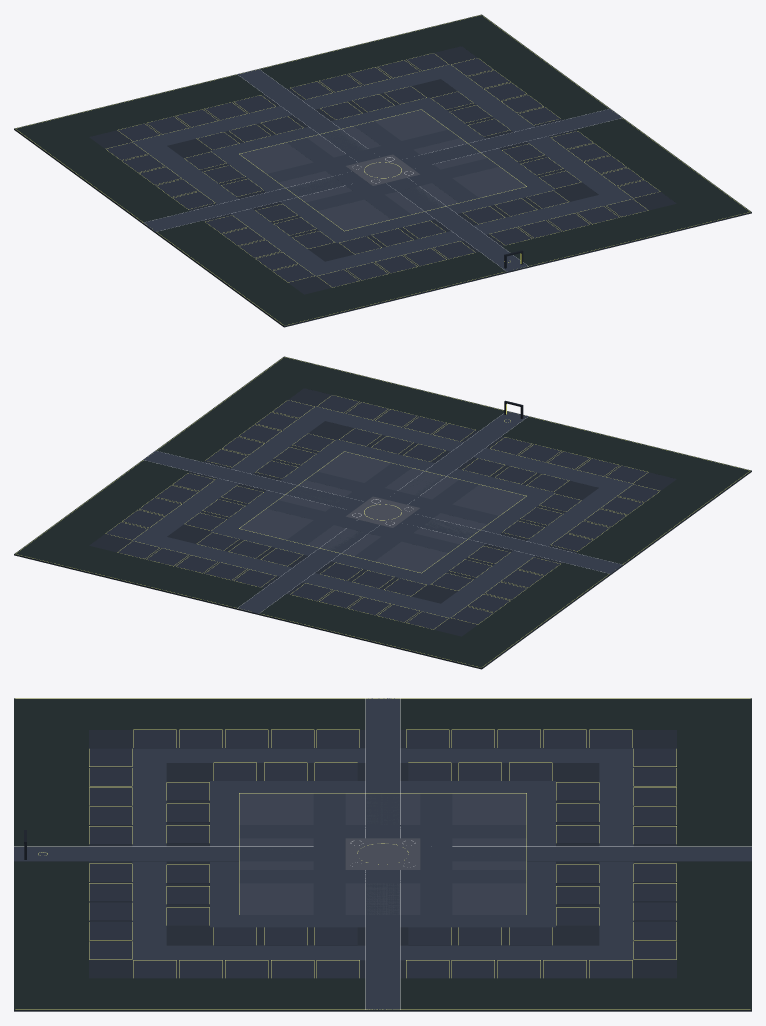
3 renders of one model, top to bottom at view 1: azimuth 30°, elevation 25°; view 2: azimuth 150°, elevation 25°; view 3: azimuth 270°, elevation 25°, orthographic. The views are drawn at different scales.
Visible parts, largest first — view 1: district_taller.lod0; view 2: district_taller.lod0; view 3: district_taller.lod0.
Boxes of the visible parts, x1,y1,x2,y2 form: district_taller.lod0: (14,14,751,327); district_taller.lod0: (14,356,751,669); district_taller.lod0: (14,698,751,1011).
Size of the model in its own units: 256 by 7.63 by 256.
